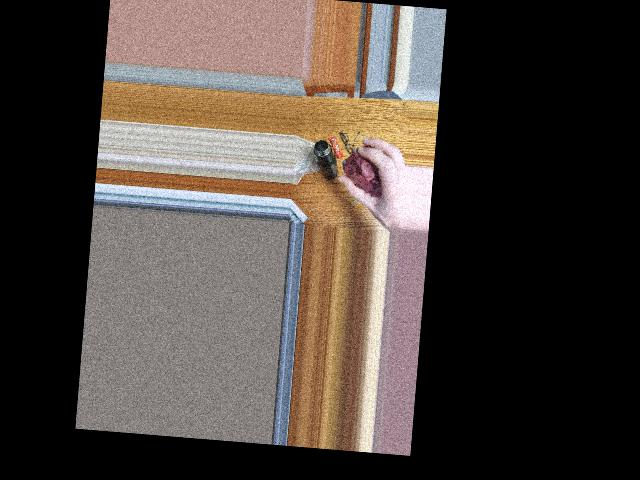onion: (344, 144, 387, 193)
